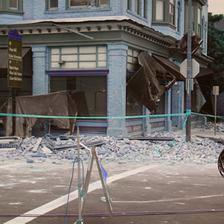Destroyed_Building: (0, 0, 213, 139)
